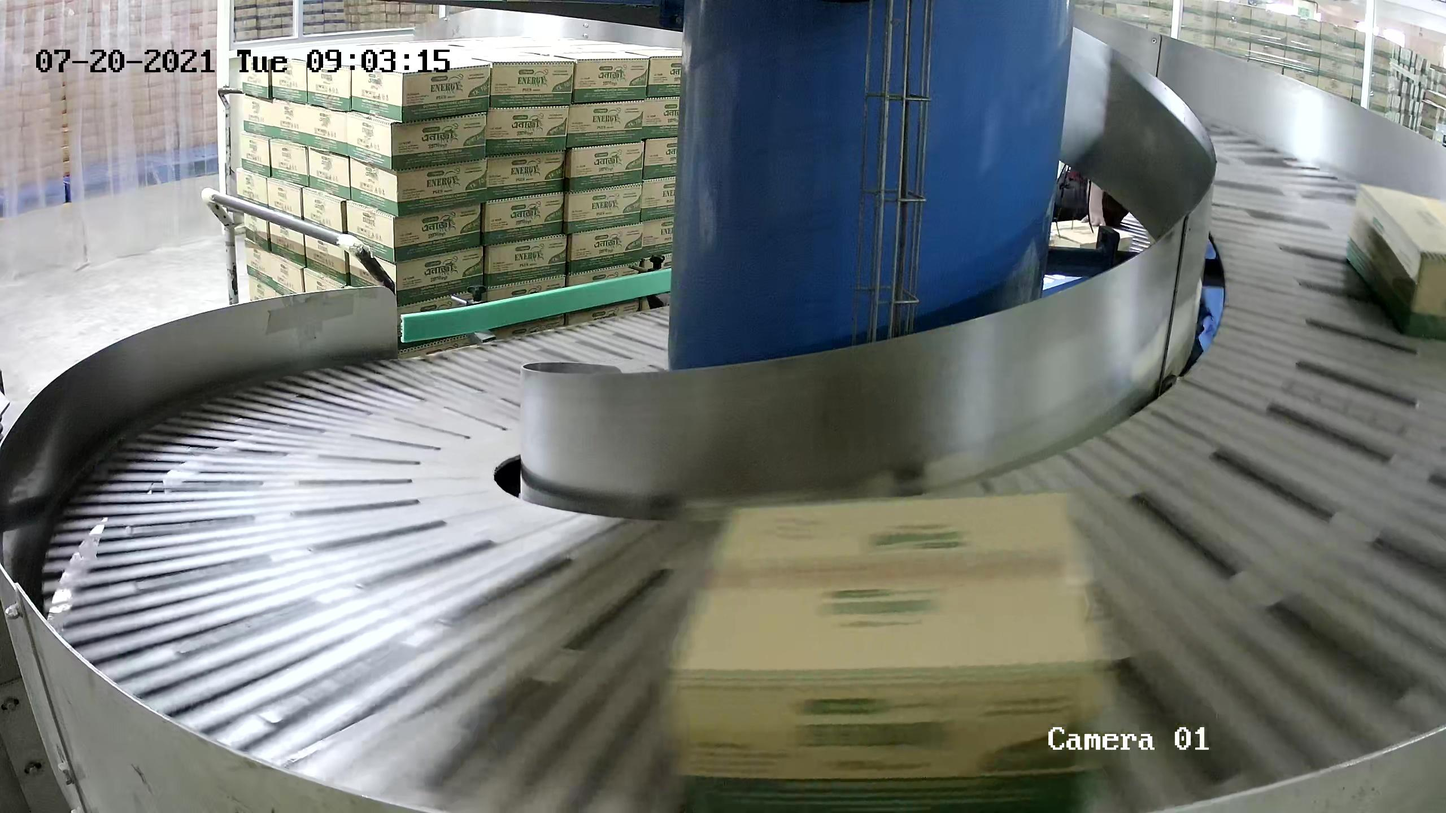Box: (668, 487, 1102, 813), (1345, 185, 1446, 347)
